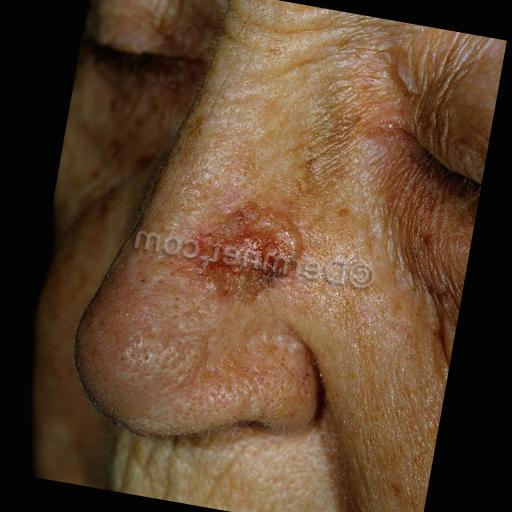Skin_Lesion: (185, 201, 315, 309)
